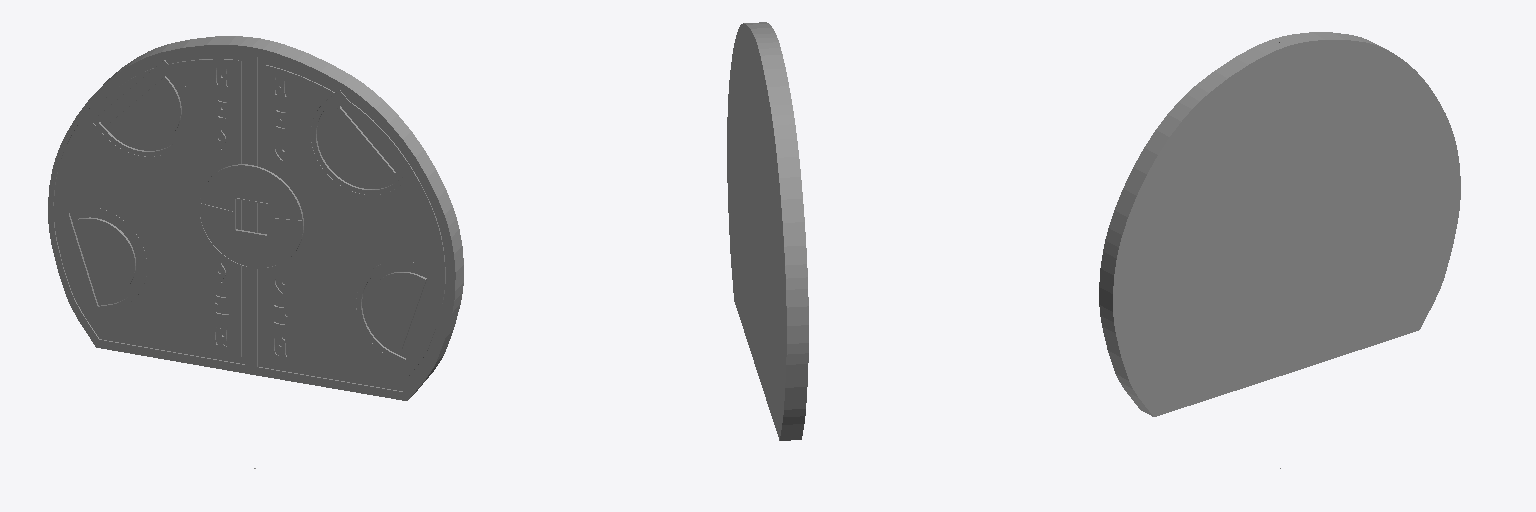
The model's file is newOutGate.obj.
The picture shows the model from 3 angles: view 1: azimuth 30°, elevation 25°; view 2: azimuth 150°, elevation 25°; view 3: azimuth 270°, elevation 25°; orthographic projection.
Visible parts, largest first — view 1: Symmetry.000, Symmetry.003, Null.000; view 2: Symmetry.000; view 3: Symmetry.000.
Boxes of the visible parts, x1=… form: Symmetry.000: x1=48, y1=36, x2=463, y2=400; Symmetry.003: x1=54, y1=53, x2=449, y2=391; Null.000: x1=198, y1=164, x2=303, y2=268; Symmetry.000: x1=727, y1=22, x2=808, y2=440; Symmetry.000: x1=1099, y1=32, x2=1460, y2=416.
Size of the model in its own units: 1669 by 2731 by 2099.